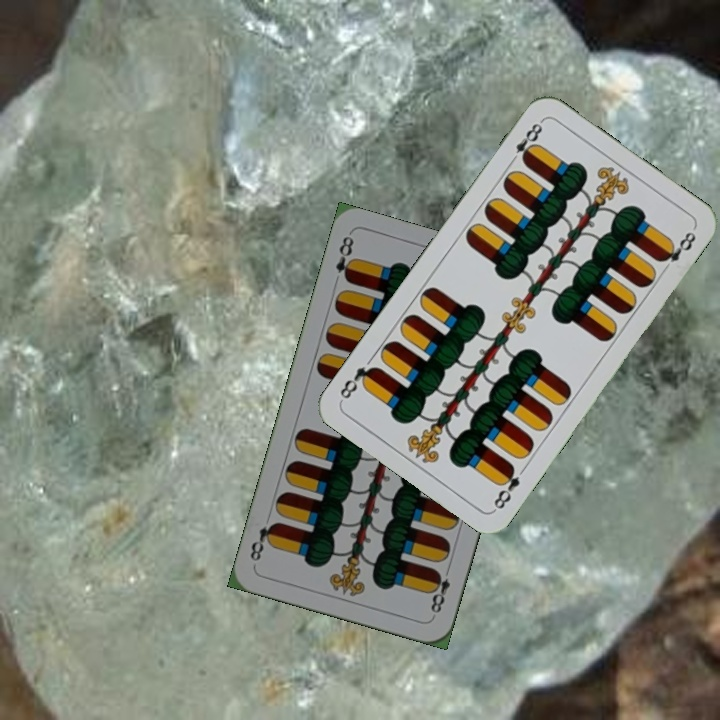E8: (505, 116, 546, 167), (489, 460, 523, 513), (426, 561, 454, 616), (331, 232, 358, 284)
